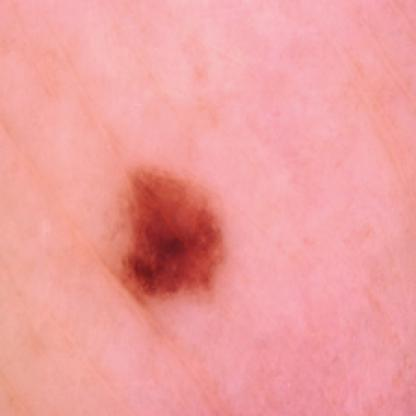benign: (117, 156, 221, 301)
